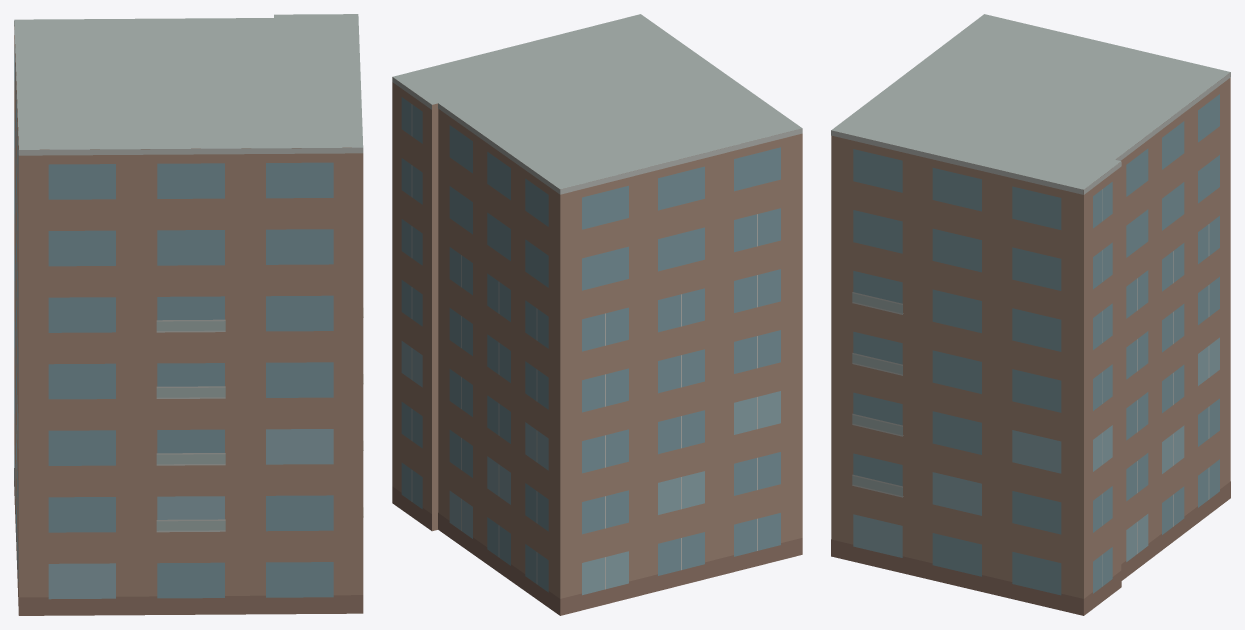
The model's file is survey-upis-32668507.glb.
The picture shows the model from 3 angles, left to right: view 1: azimuth 30°, elevation 25°; view 2: azimuth 150°, elevation 25°; view 3: azimuth 270°, elevation 25°; orthographic projection. The views are drawn at different scales.
Parts seen in each view (by area): view 1: survey-upis-32668507.tmp; view 2: survey-upis-32668507.tmp; view 3: survey-upis-32668507.tmp.
Boxes of the visible parts, box(x1,y1,x2,y2) form: survey-upis-32668507.tmp: box(14, 14, 363, 615); survey-upis-32668507.tmp: box(392, 14, 802, 615); survey-upis-32668507.tmp: box(831, 14, 1230, 615).
Bounding box in the file's own units: 17.61 × 19.9 × 16.92.
